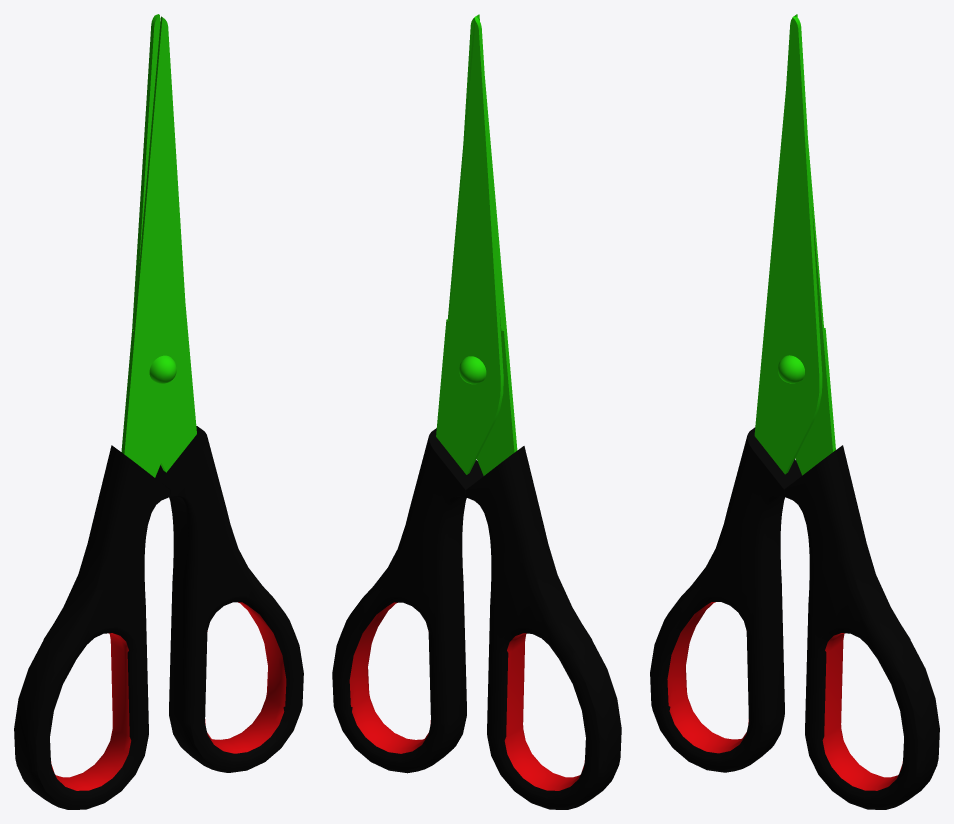
Rendered from Gunting.fbx.
The picture shows the model from 3 angles, left to right: view 1: azimuth 30°, elevation 25°; view 2: azimuth 150°, elevation 25°; view 3: azimuth 330°, elevation 25°; orthographic projection.
Visible parts, largest first — view 1: Kanan, Kiri; view 2: Kiri, Kanan; view 3: Kanan, Kiri.
Boxes of the visible parts, left/top/right/bottom form: Kanan: left=14, top=16, right=189, bottom=809; Kiri: left=132, top=14, right=303, bottom=772; Kiri: left=332, top=16, right=503, bottom=773; Kanan: left=463, top=14, right=621, bottom=809; Kanan: left=650, top=16, right=822, bottom=772; Kiri: left=778, top=14, right=939, bottom=809.
Bounding box in the file's own units: 5.63 × 15.01 × 0.7803.
